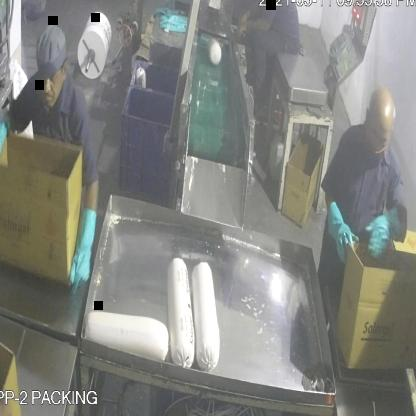no_glove: (228, 13, 272, 46)
